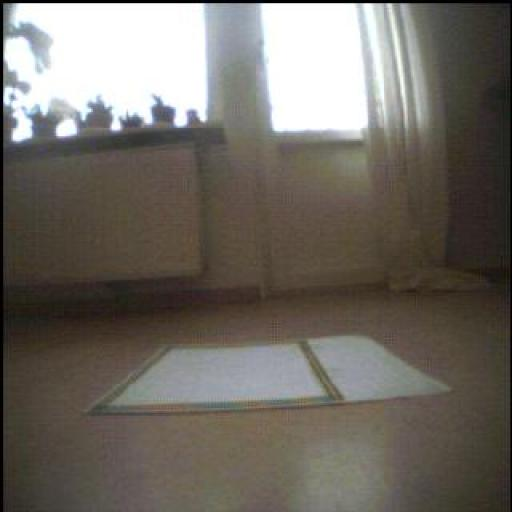Pad: (91, 337, 451, 415)
